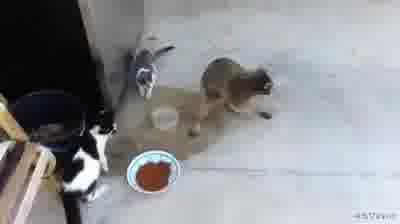raccoon: (188, 58, 274, 137)
